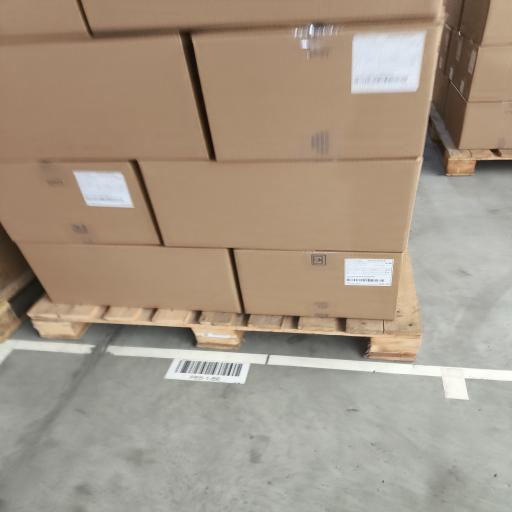pallet: (28, 252, 422, 360), (429, 105, 511, 175), (0, 270, 35, 343)
